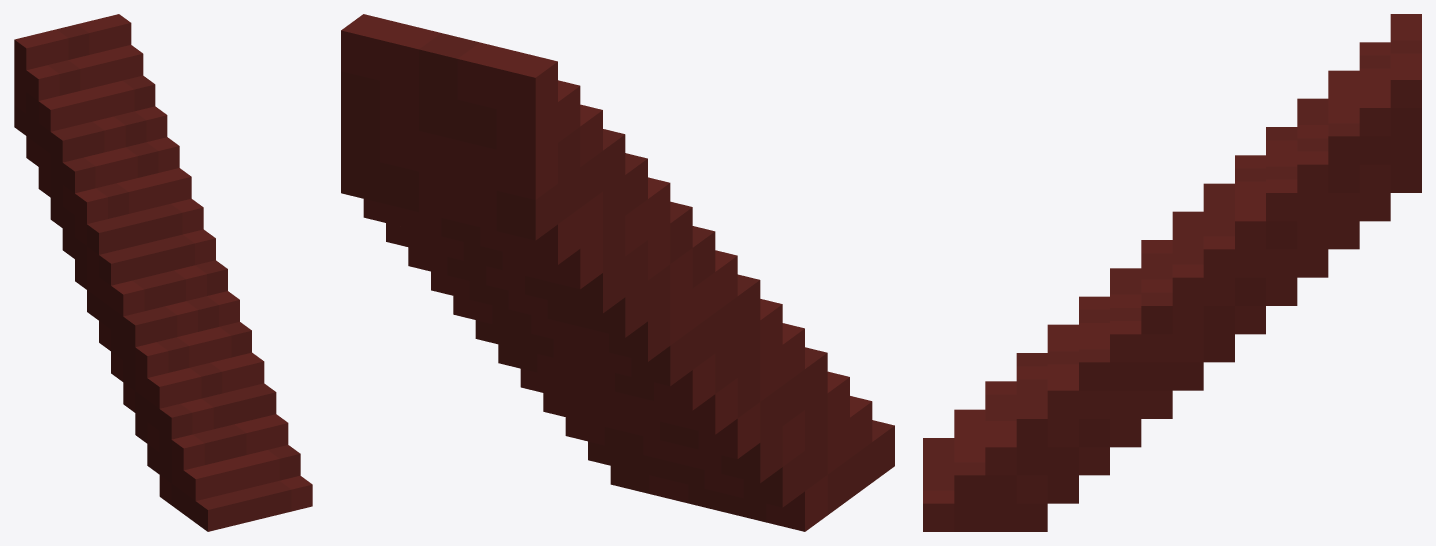
The model's file is tavern-16-roof_redmiddle5px.obj.
3 views of the same model, side by side, from view 1: azimuth 30°, elevation 25°; view 2: azimuth 150°, elevation 25°; view 3: azimuth 270°, elevation 25° (orthographic). The views are drawn at different scales.
Parts seen in each view (by area): view 1: roof_redmiddle5px; view 2: roof_redmiddle5px; view 3: roof_redmiddle5px.
Part boxes in pixels (x1,y1,x2,y2): roof_redmiddle5px: (14,14,312,531); roof_redmiddle5px: (341,14,894,531); roof_redmiddle5px: (923,14,1421,531).
Size of the model in its own units: 0.5 by 1.6 by 1.6.
Materials: 1 (1 with a texture image).
